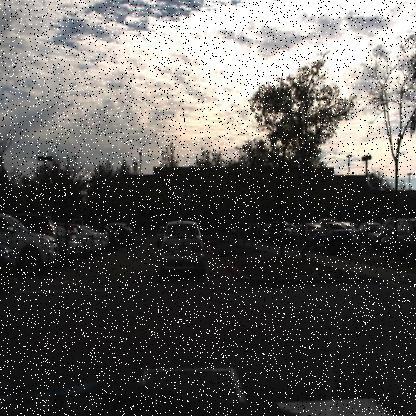car: (158, 213, 208, 280), (17, 226, 61, 283), (376, 217, 416, 268), (312, 221, 354, 259), (57, 225, 80, 264), (24, 211, 55, 233), (266, 221, 293, 245), (81, 223, 98, 258), (296, 220, 317, 247), (119, 221, 136, 249), (357, 220, 381, 236), (107, 226, 119, 252), (147, 222, 158, 249), (95, 228, 107, 251), (98, 227, 106, 252)
